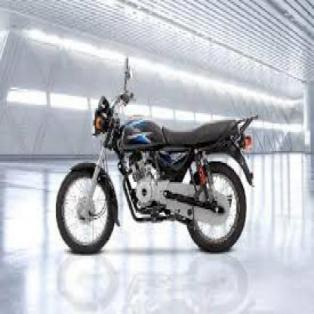Motocicleta: (54, 53, 264, 262)
